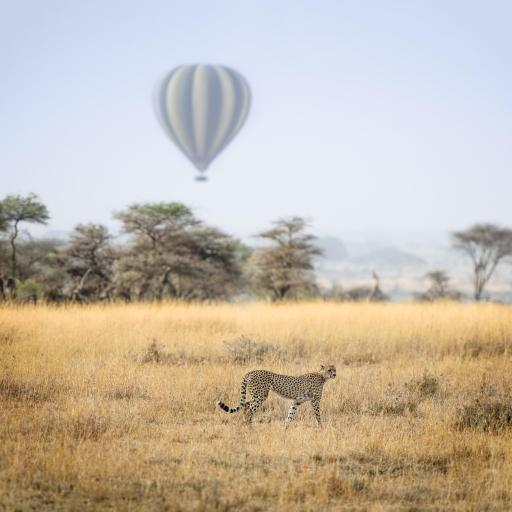hot air ballon: (152, 60, 254, 184)
